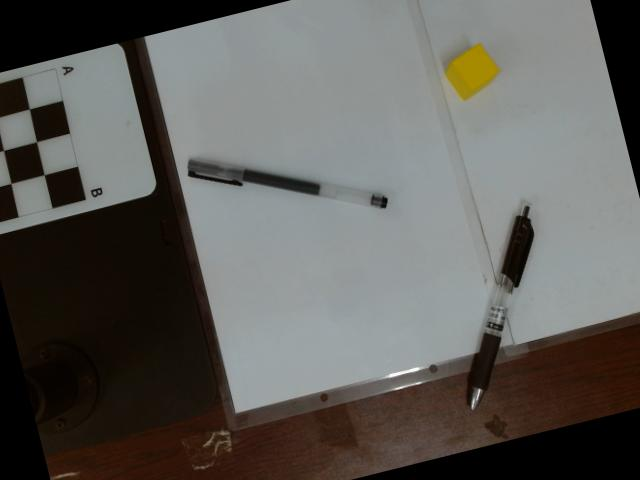PEN: (457, 203, 542, 412), (185, 156, 388, 215)
